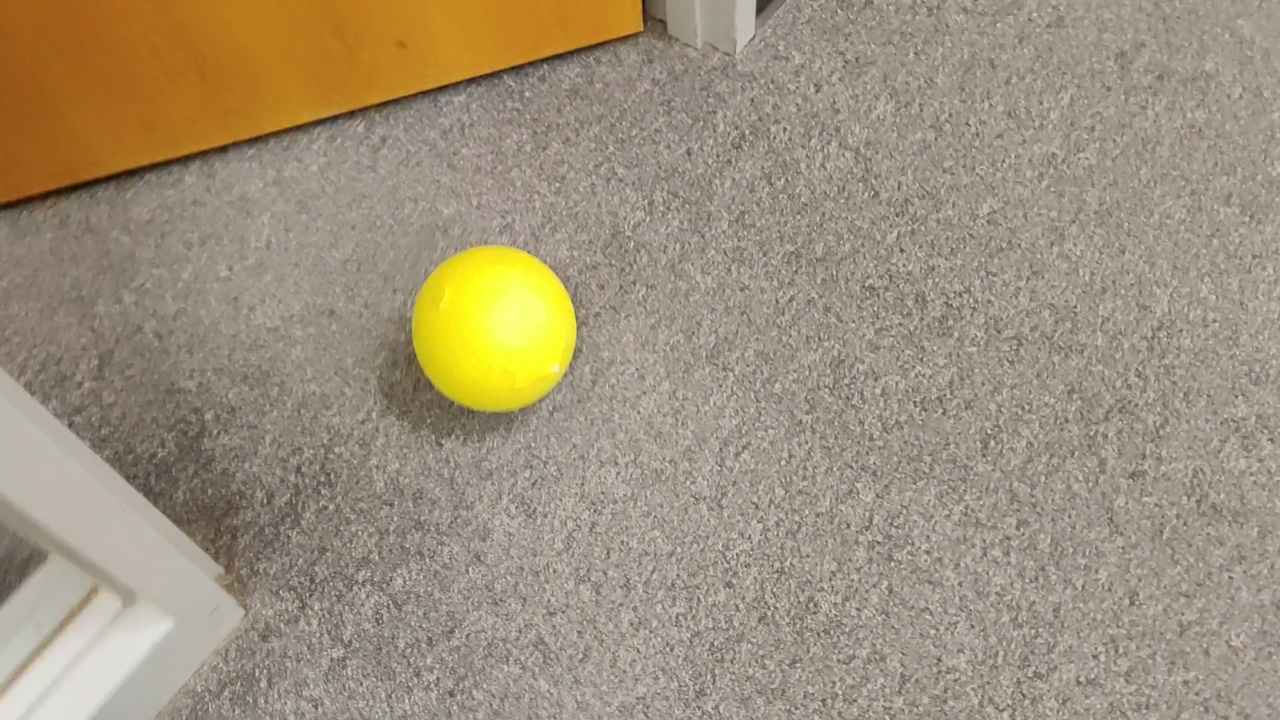Ball: (387, 225, 610, 424)
